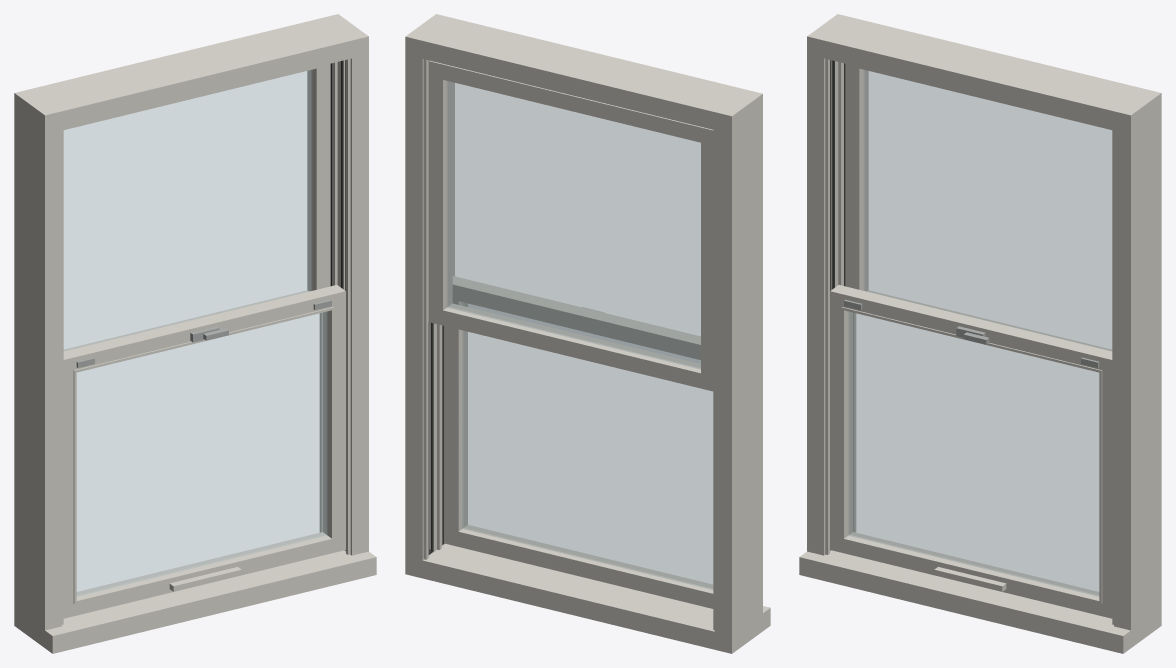
3 views of the same model, side by side, from view 1: azimuth 30°, elevation 25°; view 2: azimuth 150°, elevation 25°; view 3: azimuth 330°, elevation 25° (orthographic).
Visible parts, largest first — view 1: Lower_sealed_glazing_solid, Upper_sealed_glazing_solid, Fixed_frame_head_jambs_sill, Lower_complete_rails_stiles, Interior_sill_projection, Upper_complete_rails_stiles, Lower_glazing_bead, 1_inner_jamb_stop, 1_divider_jamb_stop, Upper_glazing_bead, -1_inner_jamb_stop, Lower_1_enclosed_balance_case (+2 smaller); view 2: Fixed_frame_head_jambs_sill, Upper_sealed_glazing_solid, Lower_sealed_glazing_solid, Upper_complete_rails_stiles, Lower_complete_rails_stiles, 1_outer_jamb_stop, 1_divider_jamb_stop, -1_outer_jamb_stop, Upper_1_enclosed_balance_case, 1_inner_jamb_stop; view 3: Lower_sealed_glazing_solid, Upper_sealed_glazing_solid, Fixed_frame_head_jambs_sill, Lower_complete_rails_stiles, Interior_sill_projection, Upper_complete_rails_stiles, Lower_glazing_bead, -1_inner_jamb_stop, -1_divider_jamb_stop, Upper_glazing_bead, 1_inner_jamb_stop, Lower_-1_enclosed_balance_case (+2 smaller).
Part boxes in pixels (bbox=[...]): Lower_sealed_glazing_solid: bbox=[77, 312, 327, 596]; Upper_sealed_glazing_solid: bbox=[64, 70, 311, 350]; Fixed_frame_head_jambs_sill: bbox=[14, 14, 368, 647]; Lower_complete_rails_stiles: bbox=[63, 285, 345, 618]; Interior_sill_projection: bbox=[45, 551, 376, 653]; Upper_complete_rails_stiles: bbox=[63, 63, 330, 351]; Lower_glazing_bead: bbox=[73, 307, 334, 603]; 1_inner_jamb_stop: bbox=[346, 59, 350, 554]; 1_divider_jamb_stop: bbox=[332, 62, 337, 285]; Upper_glazing_bead: bbox=[63, 66, 318, 289]; -1_inner_jamb_stop: bbox=[62, 129, 63, 624]; Lower_1_enclosed_balance_case: bbox=[341, 60, 345, 550]; Fixed_frame_head_jambs_sill: bbox=[405, 14, 762, 653]; Upper_sealed_glazing_solid: bbox=[447, 81, 700, 369]; Lower_sealed_glazing_solid: bbox=[462, 303, 712, 589]; Upper_complete_rails_stiles: bbox=[428, 60, 713, 391]; Lower_complete_rails_stiles: bbox=[444, 276, 713, 608]; 1_outer_jamb_stop: bbox=[423, 59, 428, 559]; 1_divider_jamb_stop: bbox=[437, 324, 441, 549]; -1_outer_jamb_stop: bbox=[713, 130, 714, 629]; Upper_1_enclosed_balance_case: bbox=[428, 60, 433, 554]; 1_inner_jamb_stop: bbox=[452, 82, 454, 276]; Lower_sealed_glazing_solid: bbox=[848, 312, 1098, 596]; Upper_sealed_glazing_solid: bbox=[864, 70, 1111, 350]; Fixed_frame_head_jambs_sill: bbox=[807, 14, 1161, 647]; Lower_complete_rails_stiles: bbox=[830, 285, 1112, 618]; Interior_sill_projection: bbox=[799, 551, 1130, 653]; Upper_complete_rails_stiles: bbox=[845, 63, 1112, 351]; Lower_glazing_bead: bbox=[841, 307, 1102, 603]; -1_inner_jamb_stop: bbox=[825, 59, 829, 554]; -1_divider_jamb_stop: bbox=[838, 62, 843, 285]; Upper_glazing_bead: bbox=[857, 66, 1112, 289]; 1_inner_jamb_stop: bbox=[1112, 129, 1113, 624]; Lower_-1_enclosed_balance_case: bbox=[830, 60, 834, 550].
Bounding box in the file's own units: 0.854 × 1.34 × 0.175.
